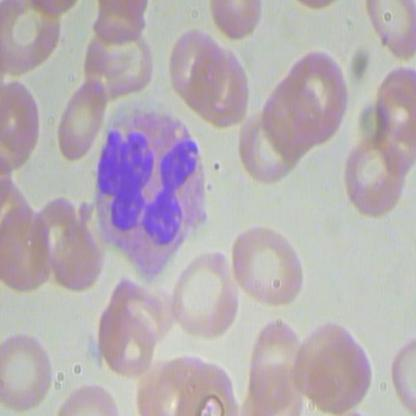RBC: (227, 216, 309, 314), (166, 240, 236, 348), (284, 47, 356, 138), (289, 315, 358, 401), (346, 127, 409, 219), (1, 326, 62, 413), (86, 302, 157, 376), (165, 24, 224, 106), (106, 275, 172, 346), (197, 46, 257, 122), (55, 78, 107, 161)
WBC: (85, 100, 217, 293)
